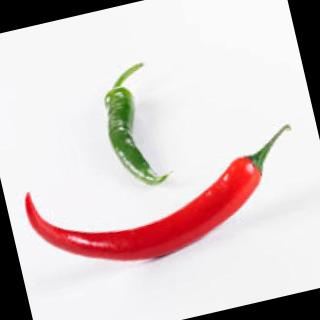Cabai Hijau: (103, 64, 173, 188)
Cabai Merah: (23, 128, 287, 264)
